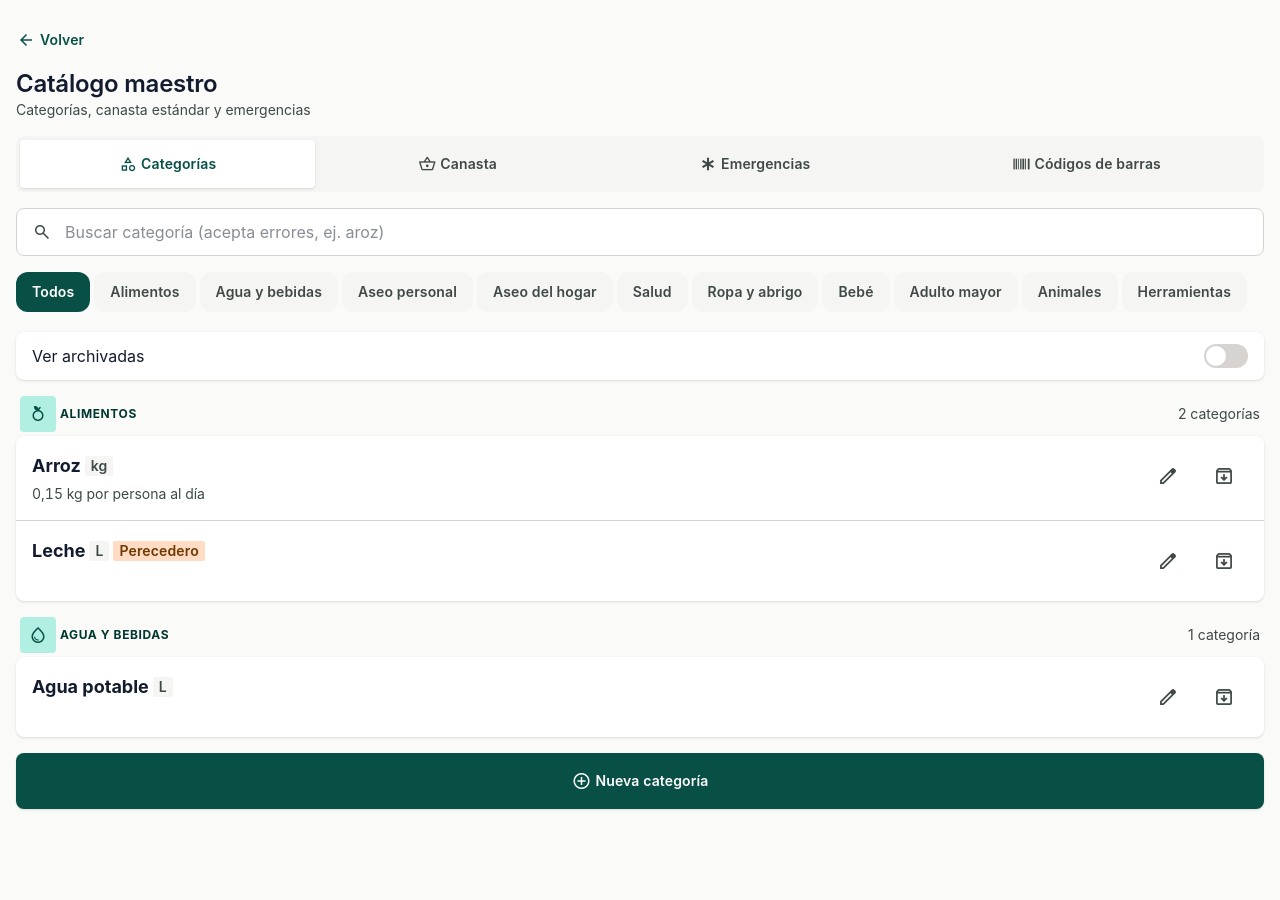
Test: categorías › crear una categoría manda el formulario
The width and height of the screenshot is (1280, 900).
Expected: the element "Alimentos" is shown, [16,396,1264,601]
Click the button "Nueva categoría": (640, 781) [16,753,1264,809]
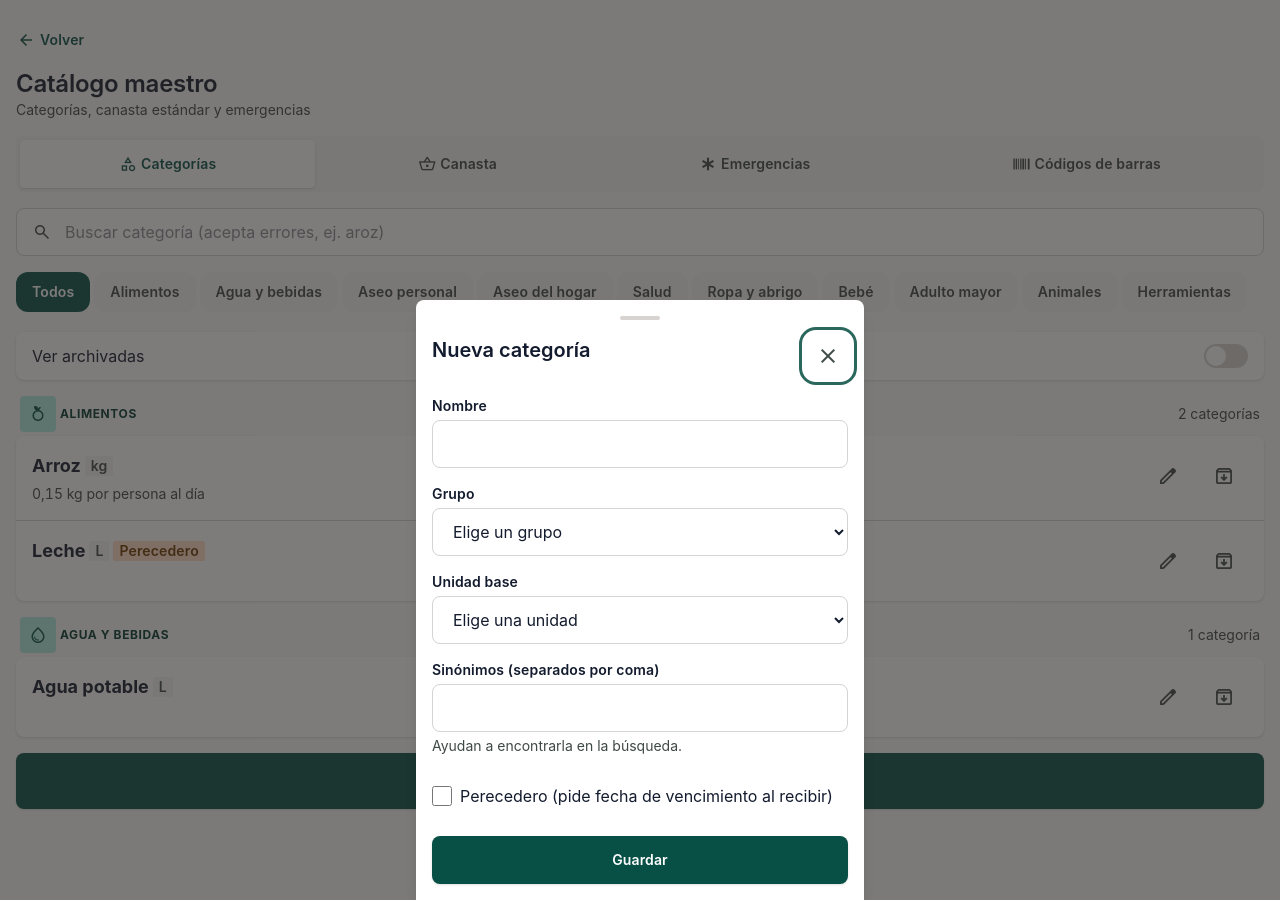
In the field labelled "Nombre": (640, 444) [432,420,848,468], type "Panela"
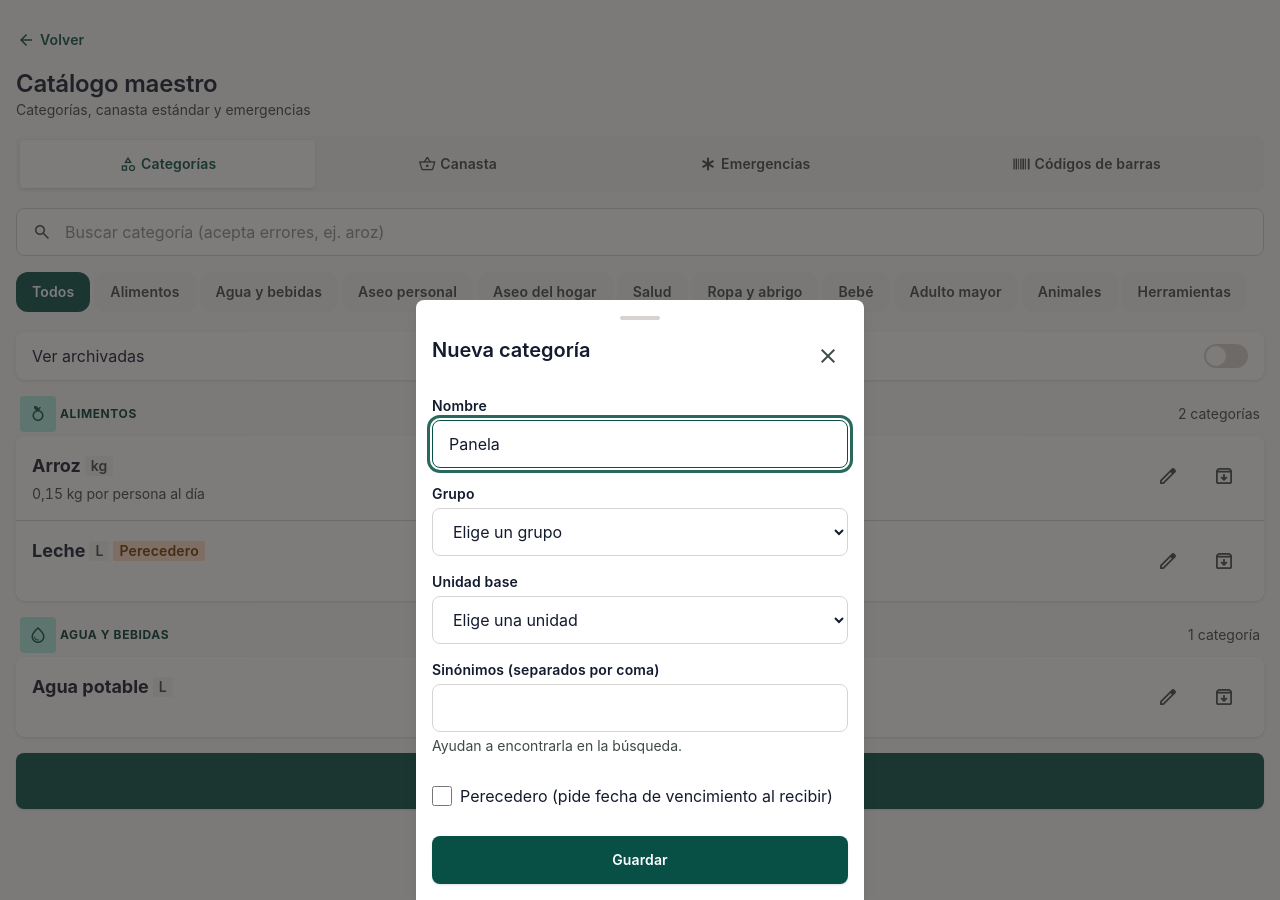
Select "Alimentos" in the dropdown labelled "Grupo": (640, 532) [432,508,848,556]
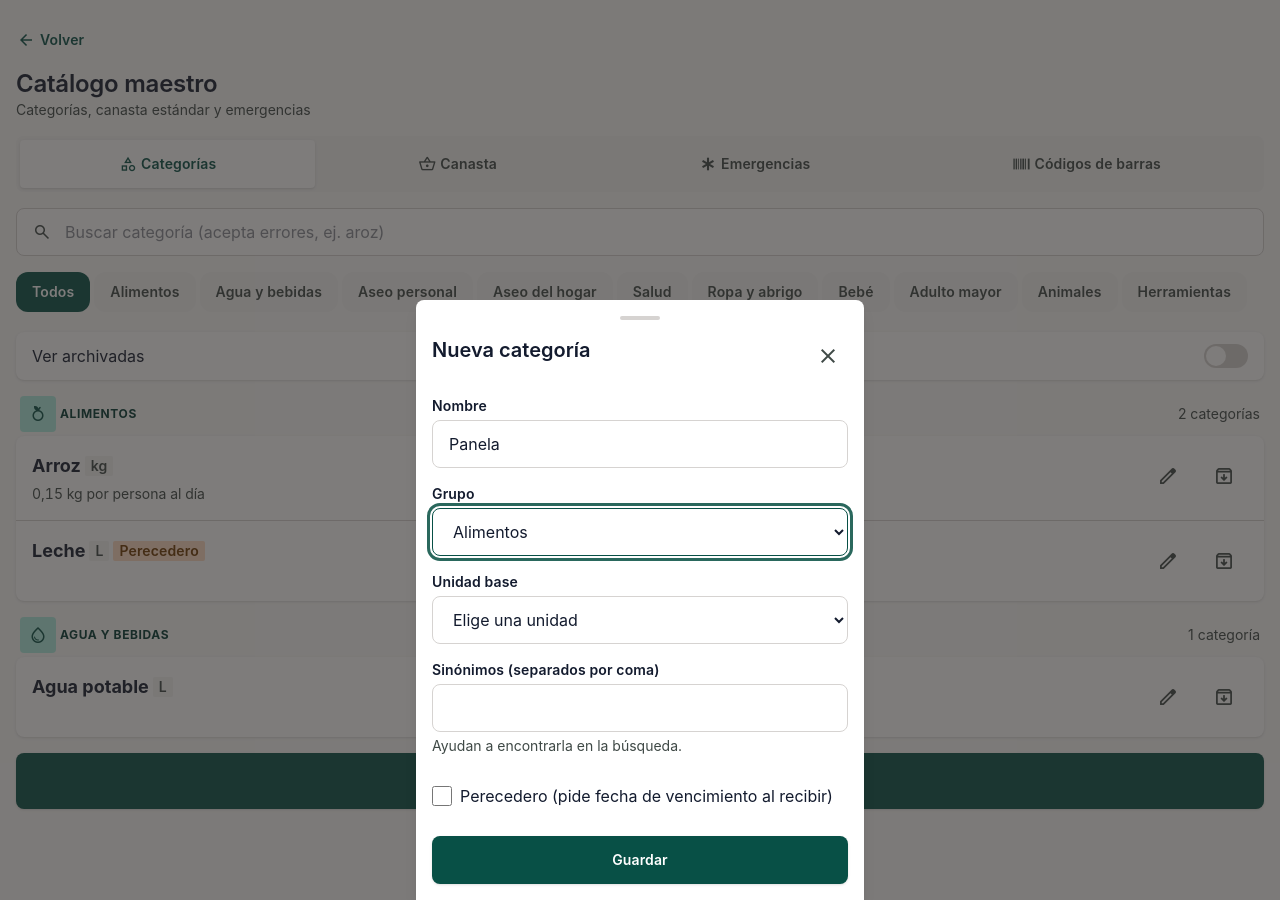
Select "Kilogramo (kg)" in the dropdown labelled "Unidad base": (640, 620) [432,596,848,644]
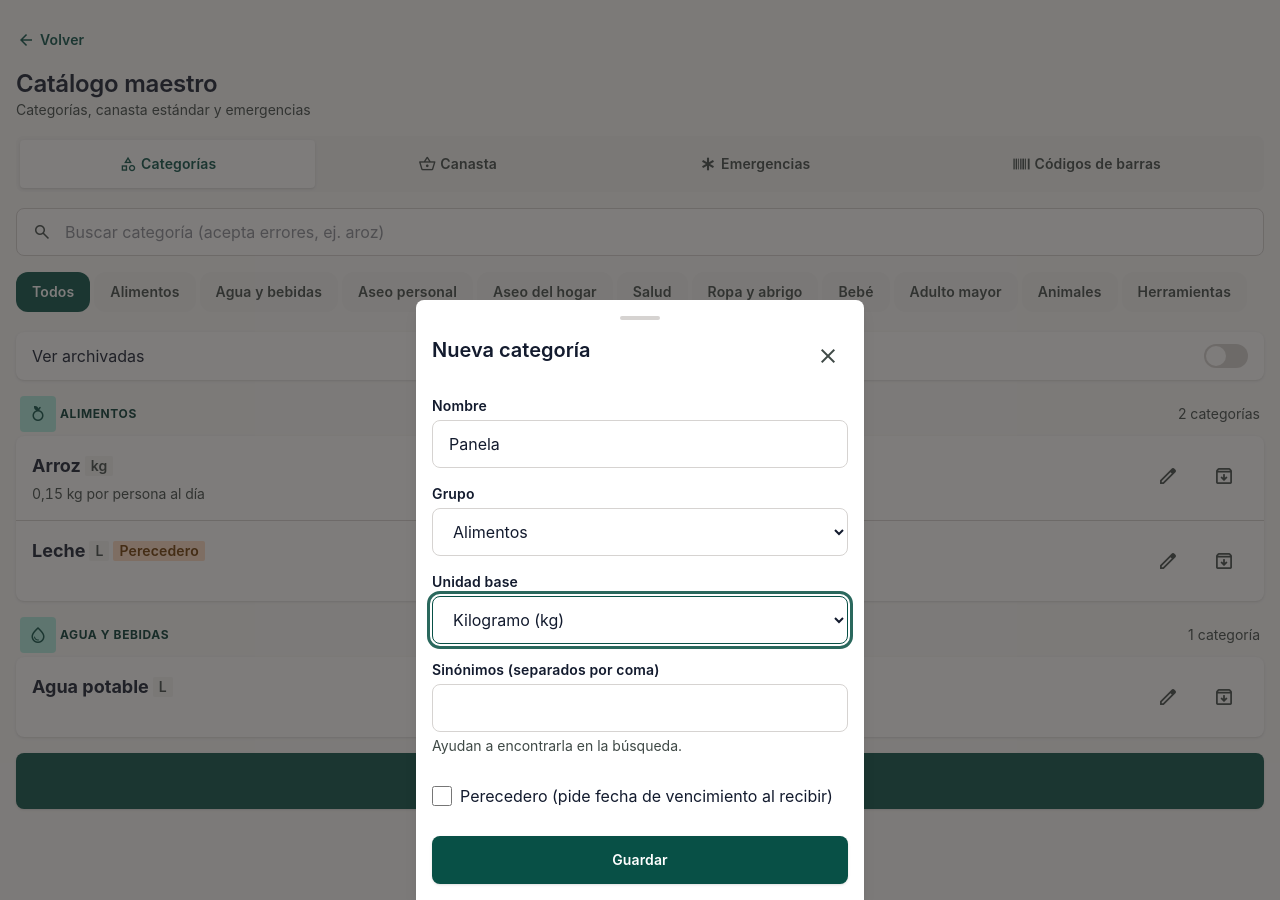
In the field labelled "Sinónimos (separados por coma)": (640, 708) [432,684,848,732], type "panelita, dulce"
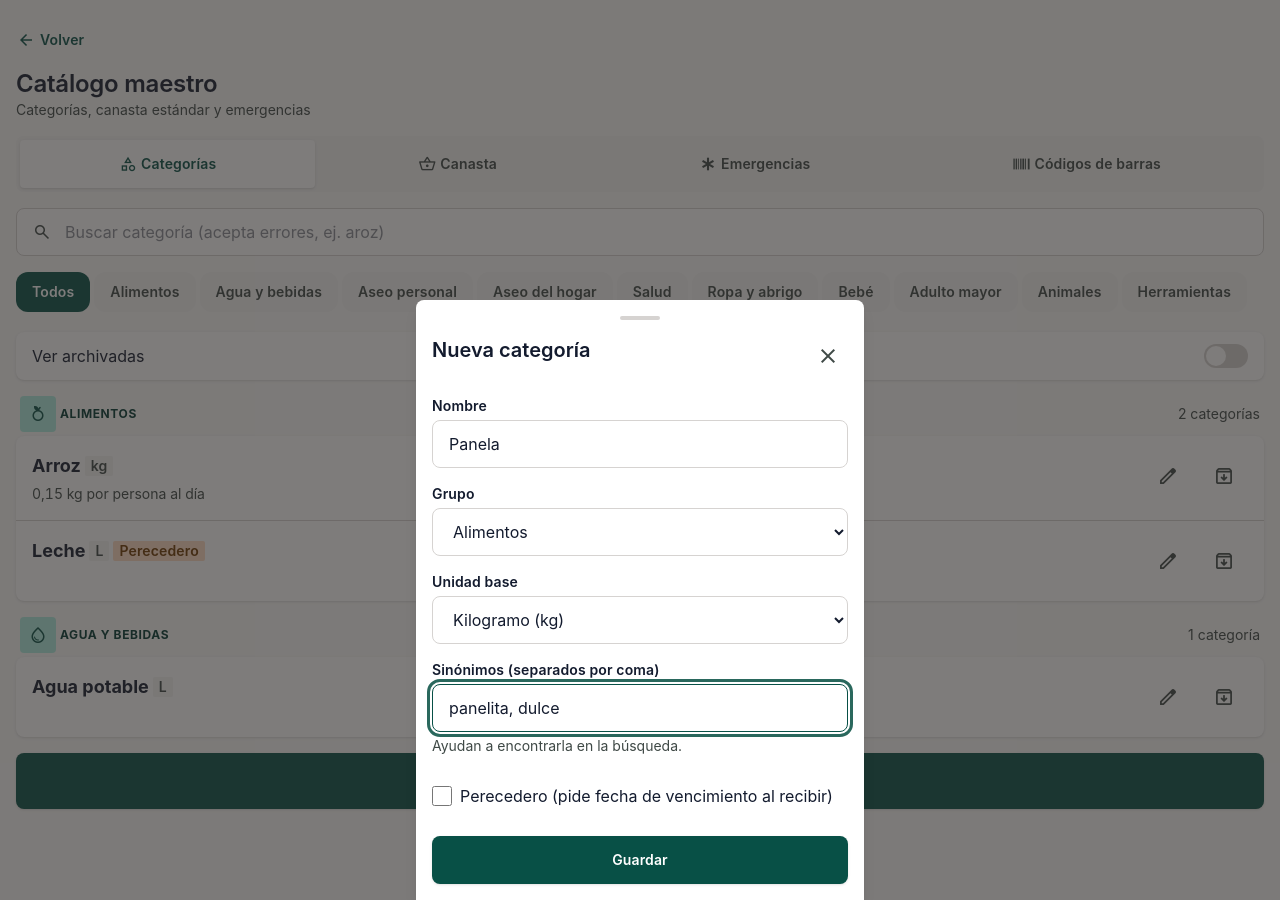
Click the button "Guardar": (640, 860) [432,836,848,884]
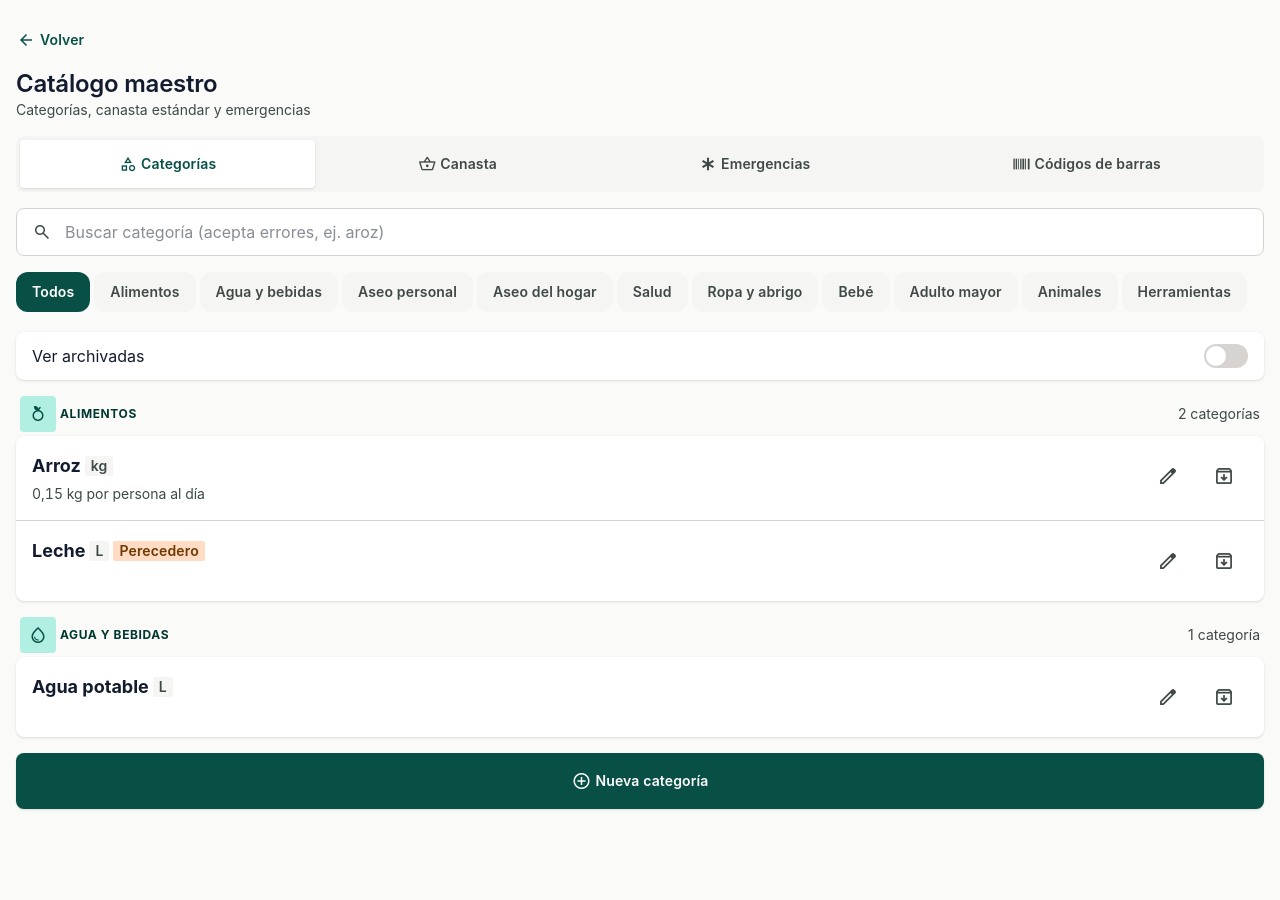
Expected: the dialog is gone
